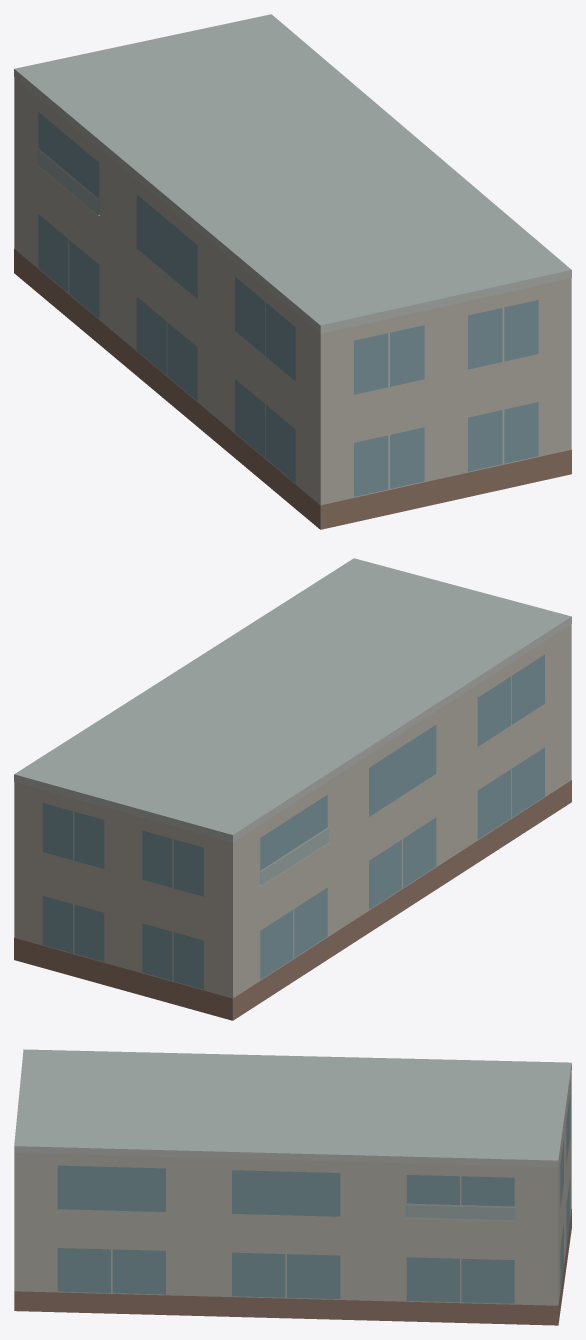
Rendered from survey-upis-32670240.glb.
The picture shows the model from 3 angles, top to bottom: view 1: azimuth 30°, elevation 25°; view 2: azimuth 150°, elevation 25°; view 3: azimuth 270°, elevation 25°; orthographic projection. The views are drawn at different scales.
Parts seen in each view (by area): view 1: survey-upis-32670240.tmp; view 2: survey-upis-32670240.tmp; view 3: survey-upis-32670240.tmp.
Boxes of the visible parts, x1,y1,x2,y2 form: survey-upis-32670240.tmp: [14, 14, 571, 529]; survey-upis-32670240.tmp: [14, 558, 571, 1020]; survey-upis-32670240.tmp: [14, 1049, 571, 1325].
Size of the model in its own units: 8.83 by 6.1 by 18.71.
